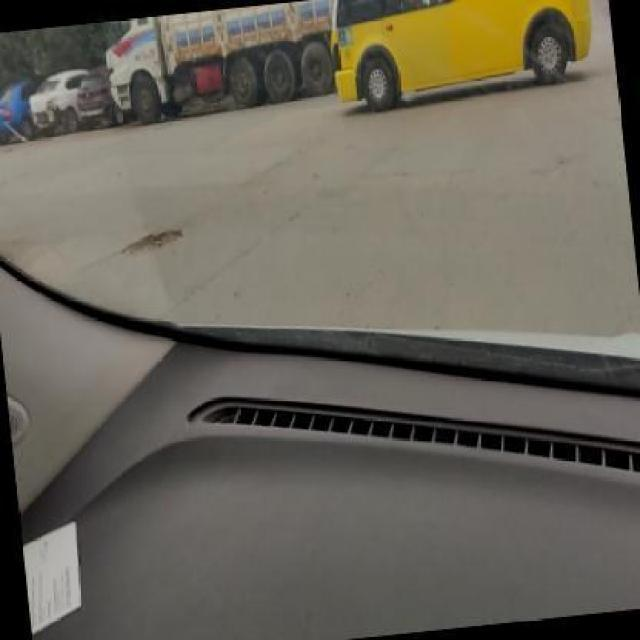Pothole: (121, 231, 182, 254)
